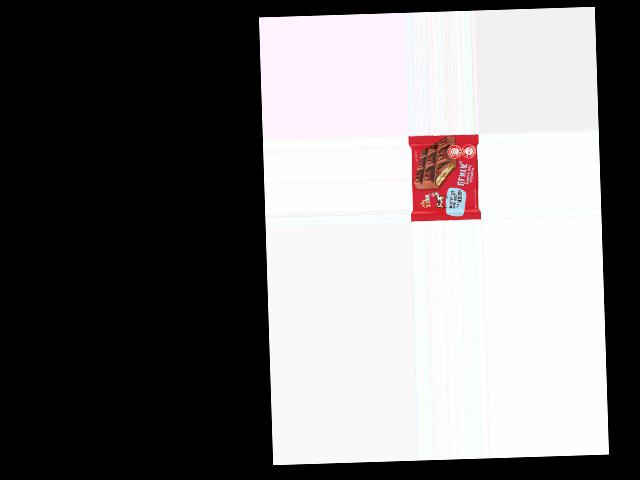chocolate: (409, 135, 481, 218)
